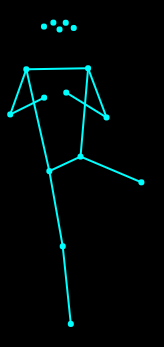tree: (5, 10, 147, 330)
